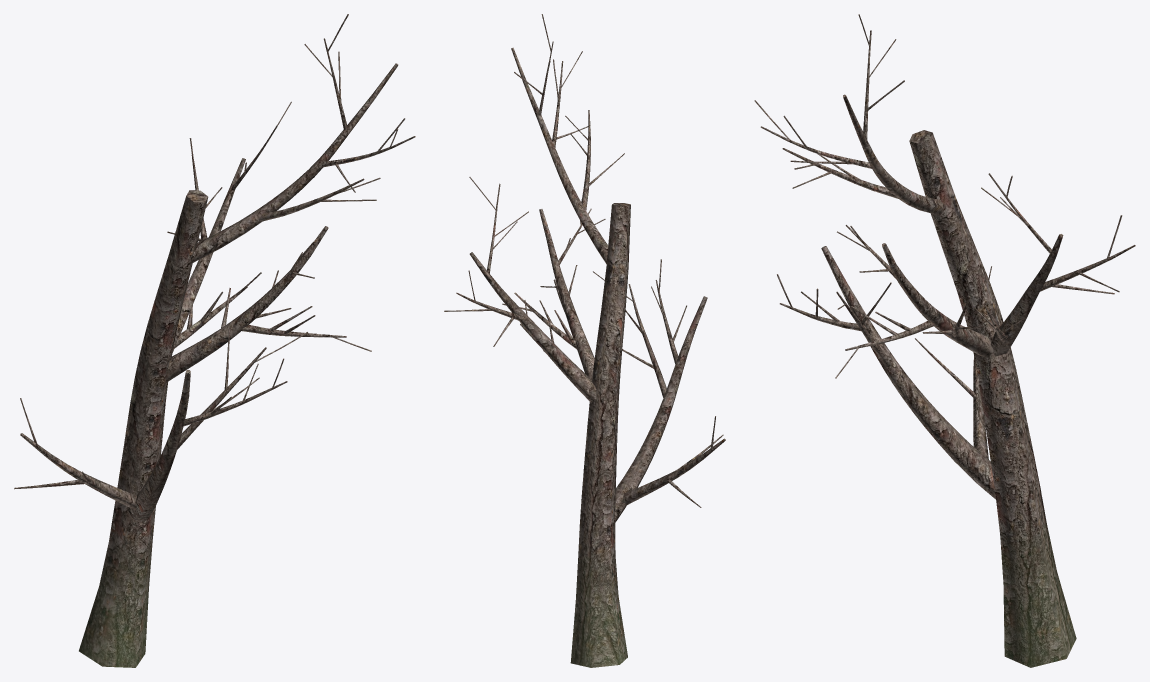
The model's file is oak1_trunk.glb.
The picture shows the model from 3 angles, left to right: view 1: azimuth 30°, elevation 25°; view 2: azimuth 150°, elevation 25°; view 3: azimuth 270°, elevation 25°; orthographic projection. The views are drawn at different scales.
Visible parts, largest first — view 1: trunk; view 2: trunk; view 3: trunk.
Part boxes in pixels (<box>): trunk: <box>14,14,415,667</box>; trunk: <box>444,14,725,667</box>; trunk: <box>754,14,1135,667</box>.
Size of the model in its own units: 3.95 by 7.99 by 3.84.
1 material, 1 textured.
